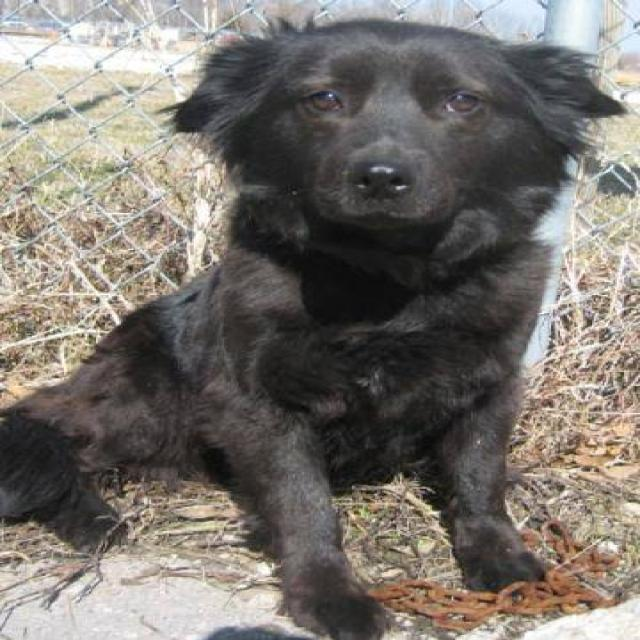dogs: (0, 9, 593, 620)
